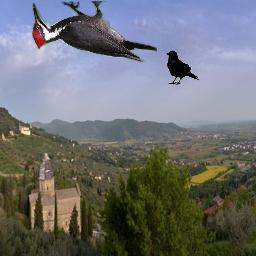Crow: (165, 50, 199, 85)
Woodpecker: (32, 1, 157, 62)
